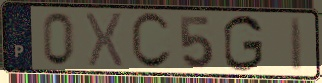0: (40, 10, 77, 69)
5: (177, 14, 216, 70)
C: (128, 11, 174, 72)
G: (221, 13, 265, 74)
I: (288, 15, 305, 74)
X: (84, 10, 126, 71)
